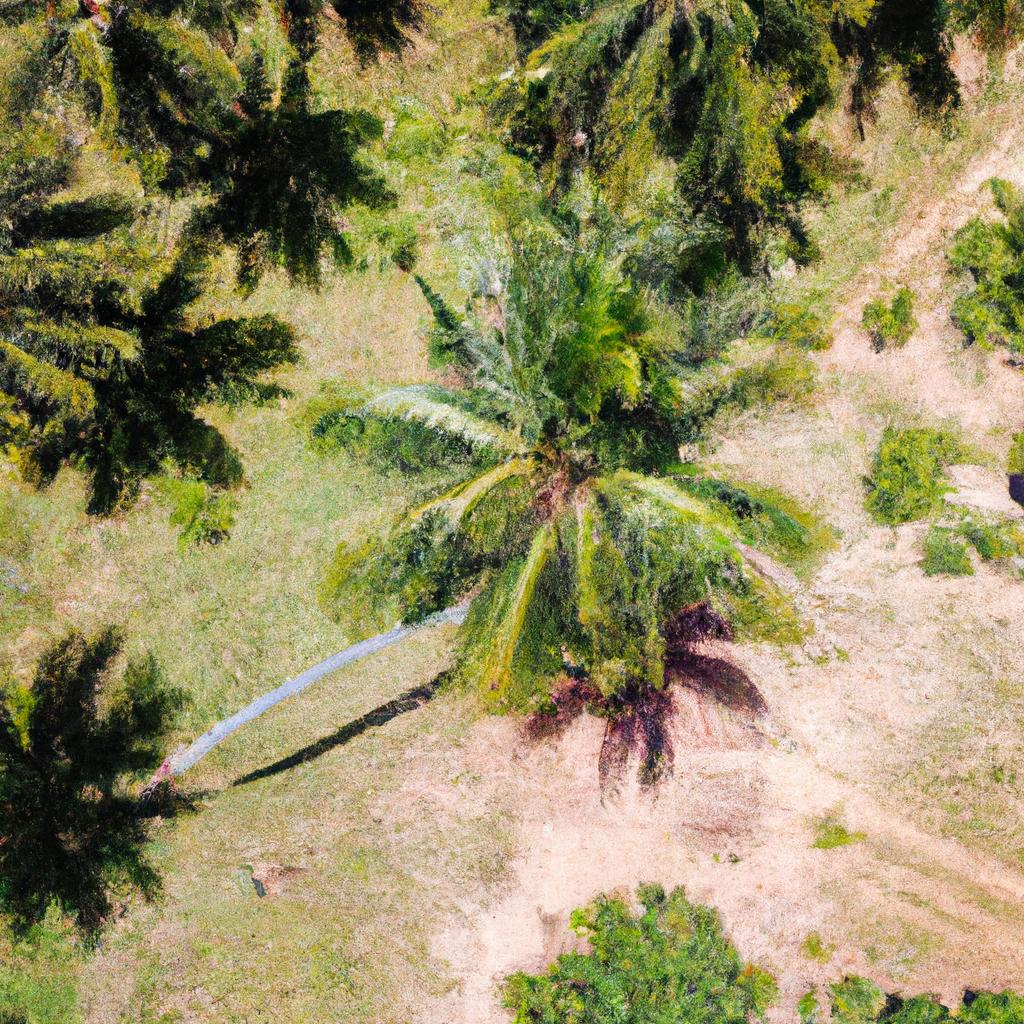coconut_tree: (314, 274, 859, 759)
